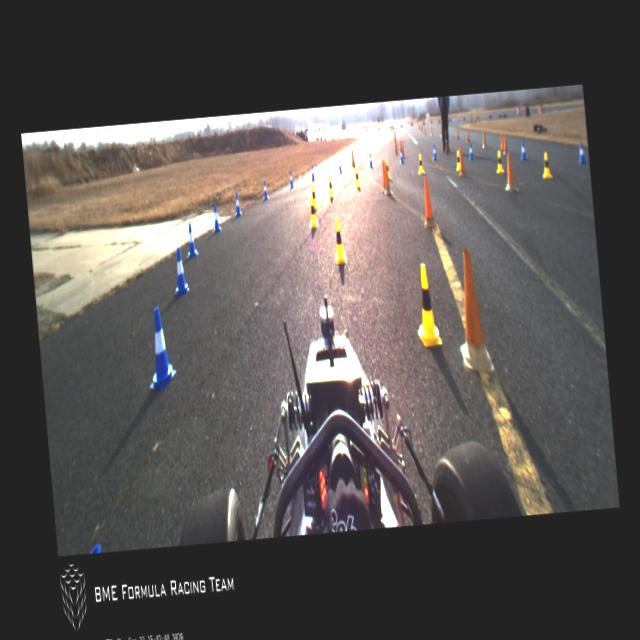blue_cone: (143, 306, 177, 390), (171, 247, 189, 295), (184, 222, 198, 258), (210, 202, 221, 233), (578, 142, 586, 164), (233, 192, 240, 216), (519, 142, 527, 160), (262, 180, 268, 199), (288, 170, 294, 188), (468, 143, 474, 159), (399, 148, 404, 164), (310, 164, 314, 180), (368, 152, 372, 168), (432, 144, 436, 160), (338, 158, 342, 174)
unknown_cone: (452, 246, 493, 372), (420, 176, 436, 228), (502, 152, 518, 191), (382, 160, 392, 196), (456, 146, 466, 177), (379, 160, 386, 193), (350, 148, 355, 167)
yellow_cone: (412, 262, 442, 346), (332, 217, 346, 263), (307, 195, 318, 228), (540, 150, 552, 177), (494, 150, 504, 173), (309, 184, 317, 208), (416, 154, 424, 174), (353, 166, 360, 188), (454, 149, 460, 171), (327, 176, 333, 198), (385, 159, 390, 178)
